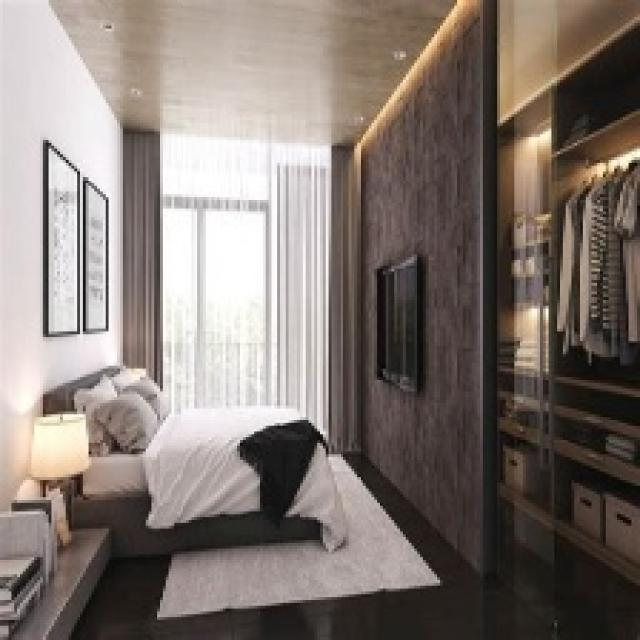Bed: (40, 363, 346, 557)
